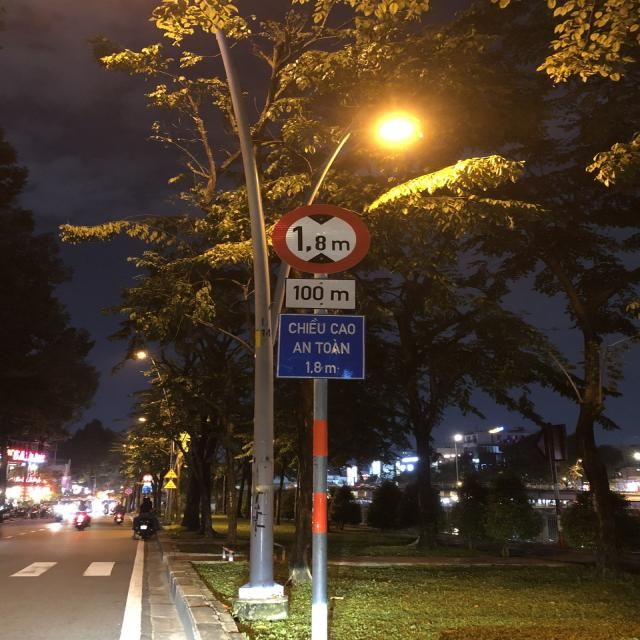Bien bao han che chieu cao: (264, 198, 372, 273)
